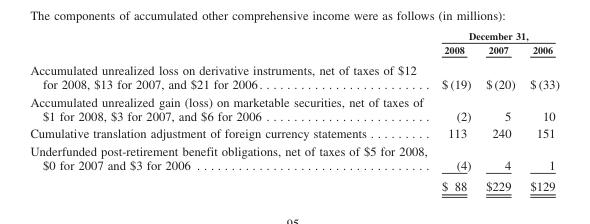table: (29, 29, 558, 193)
table column: (29, 29, 433, 193), (433, 29, 477, 193), (477, 29, 521, 193), (521, 29, 558, 193)
table column header: (29, 29, 558, 58)
table row: (29, 58, 558, 92), (29, 141, 558, 175), (29, 92, 558, 124), (29, 175, 558, 193), (29, 124, 558, 141), (29, 42, 558, 58), (29, 29, 558, 42)
table spanning cell: (433, 29, 558, 42)
